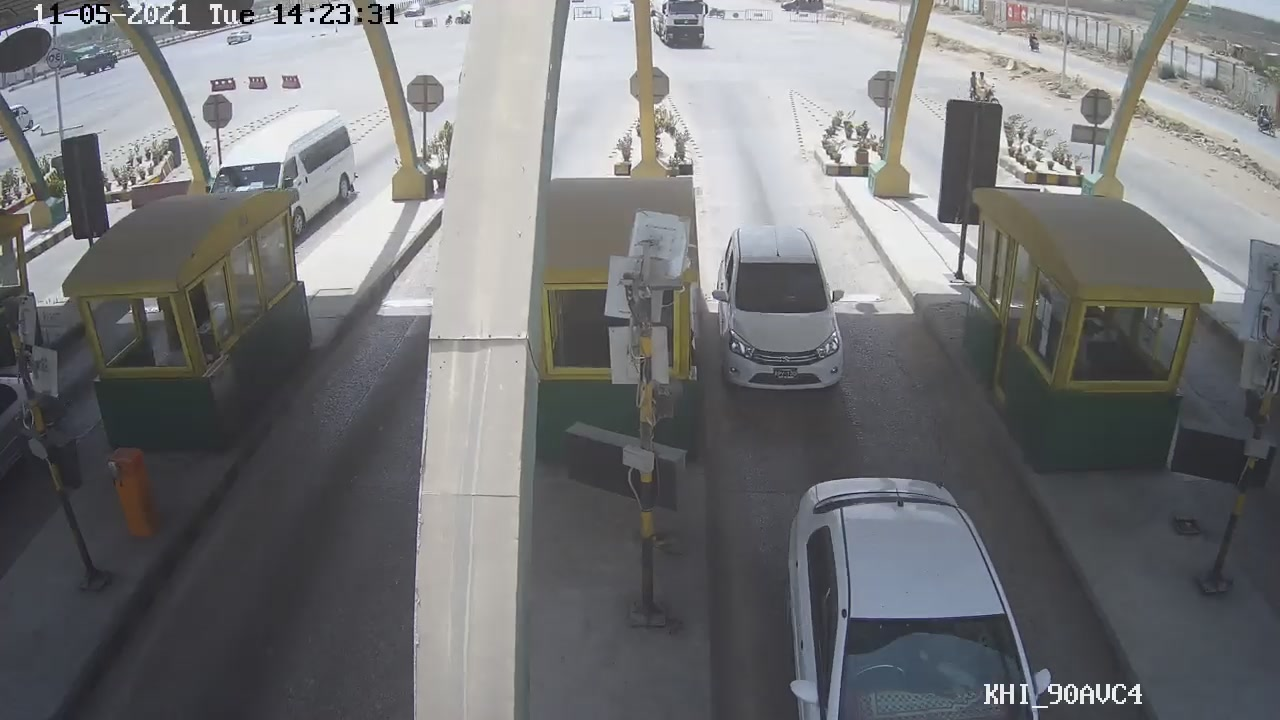F1: (704, 219, 855, 397)
